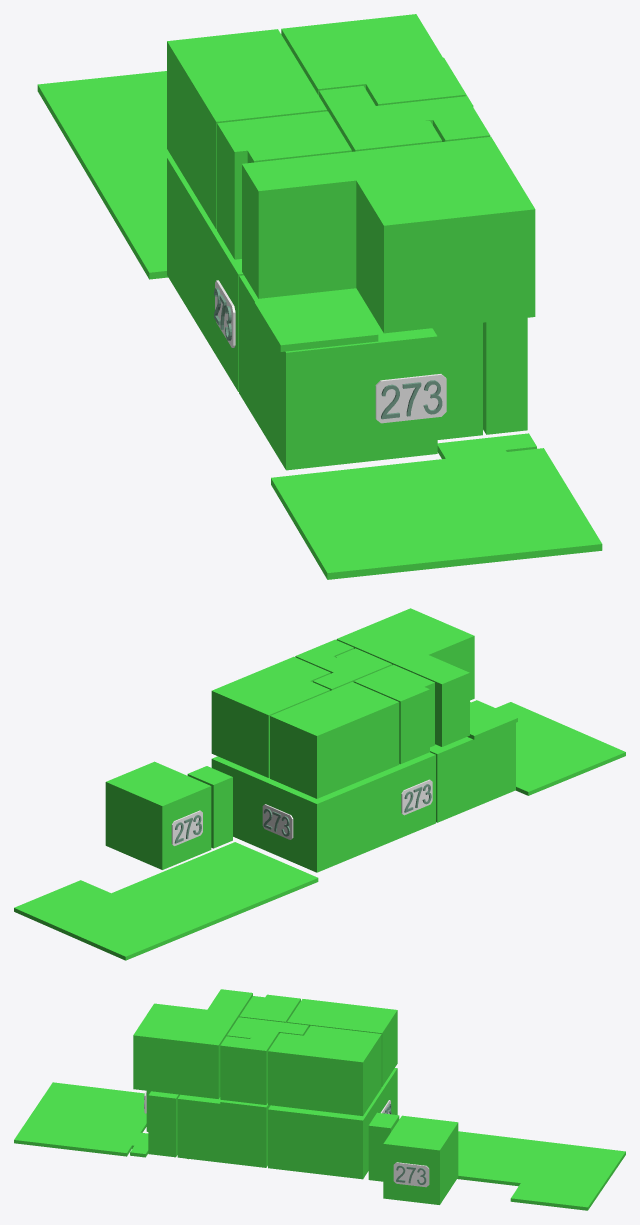
3 renders of one model, top to bottom at view 1: azimuth 30°, elevation 25°; view 2: azimuth 150°, elevation 25°; view 3: azimuth 270°, elevation 25°, orthographic. The views are drawn at different scales.
Parts seen in each view (by area): view 1: g_8, g_14, g_1, g_13, g_7, g_6, g_0, g_9, g_12, g_4, g_10, g_2 (+2 smaller); view 2: g_13, g_0, g_7, g_5, g_8, g_6, g_1, g_14, g_9, g_3, g_10, g_12 (+4 smaller); view 3: g_6, g_13, g_8, g_14, g_0, g_2, g_5, g_7, g_11, g_4, g_3, g_9 (+2 smaller).
Boxes of the visible parts, bbox=[...] form: g_8: bbox=[242, 136, 535, 333]; g_14: bbox=[271, 433, 602, 579]; g_1: bbox=[239, 275, 437, 470]; g_13: bbox=[37, 71, 171, 279]; g_7: bbox=[167, 29, 327, 229]; g_6: bbox=[281, 14, 465, 105]; g_0: bbox=[167, 157, 243, 391]; g_9: bbox=[217, 111, 351, 259]; g_12: bbox=[254, 292, 378, 351]; g_4: bbox=[483, 318, 527, 434]; g_10: bbox=[319, 86, 441, 151]; g_2: bbox=[432, 322, 482, 439]; g_13: bbox=[14, 842, 318, 960]; g_0: bbox=[211, 752, 435, 872]; g_7: bbox=[270, 682, 399, 798]; g_5: bbox=[105, 761, 211, 869]; g_8: bbox=[336, 608, 474, 746]; g_6: bbox=[211, 656, 330, 777]; g_1: bbox=[430, 702, 515, 822]; g_14: bbox=[496, 702, 625, 795]; g_9: bbox=[353, 664, 434, 764]; g_3: bbox=[187, 766, 232, 848]; g_10: bbox=[313, 648, 392, 690]; g_12: bbox=[467, 700, 517, 739]; g_6: bbox=[268, 1025, 381, 1115]; g_13: bbox=[457, 1131, 625, 1210]; g_8: bbox=[133, 989, 252, 1098]; g_14: bbox=[14, 1082, 148, 1157]; g_0: bbox=[268, 1068, 397, 1179]; g_2: bbox=[177, 1094, 270, 1167]; g_5: bbox=[383, 1115, 458, 1204]; g_7: bbox=[287, 999, 397, 1086]; g_11: bbox=[220, 1036, 273, 1104]; g_4: bbox=[148, 1091, 179, 1157]; g_3: bbox=[368, 1112, 399, 1181]; g_9: bbox=[239, 994, 300, 1022].
Bounding box in the file's own units: 11.89 × 5.35 × 24.58.
